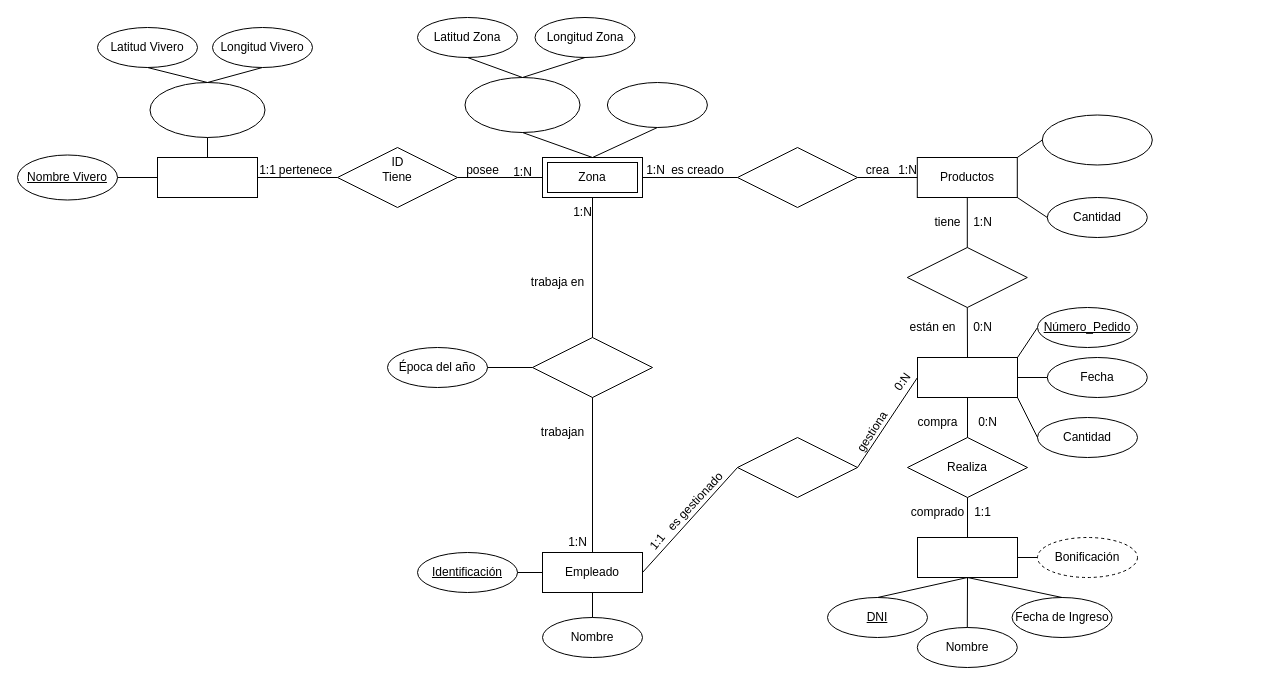
The diagram is 1265 pixels wide and 685 high, and some of its shapes have lost their labels. Here are the shapes that lost their labels. From the top down, the box of each, then its label:
(149, 82, 265, 138): Georreferenciación vivero
(464, 76, 580, 132): Georreferenciación zona
(606, 82, 707, 128): Nombre Zona
(1041, 114, 1152, 165): Nombre_Producto
(156, 156, 258, 198): Vivero
(736, 146, 858, 208): Producen
(906, 246, 1027, 308): Contiene
(532, 336, 652, 398): Trabaja
(916, 356, 1018, 398): Pedido
(736, 436, 858, 498): Gestión
(916, 536, 1018, 578): Clientes Plus
